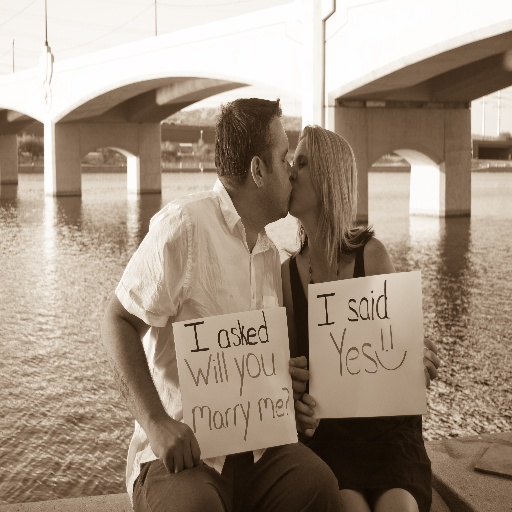hand: (149, 414, 200, 471), (294, 390, 321, 438), (421, 334, 440, 389), (288, 353, 309, 401)
